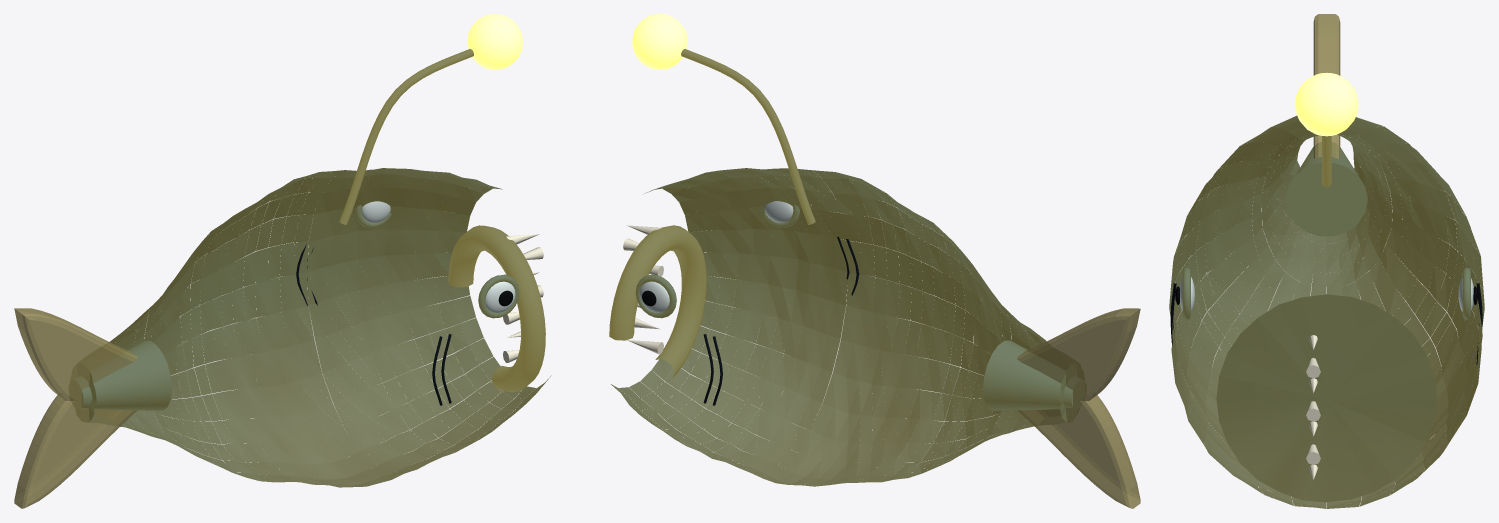
Rendered from star-mouth.glb.
3 views of the same model, side by side, from view 1: azimuth 30°, elevation 25°; view 2: azimuth 150°, elevation 25°; view 3: azimuth 270°, elevation 25° (orthographic). The views are drawn at different scales.
Visible parts, largest first — view 1: body, tail_fin, star_mouth, tail_peduncle, lure, lure_stem, eye_socket; view 2: body, tail_fin, star_mouth, tail_peduncle, lure, lure_stem, eye_socket; view 3: body, tail_peduncle, lure, tail_fin, eye_socket (×2), lure_stem.
Boxes of the visible parts, x1,y1,x2,y2 form: body: [76, 168, 551, 487]; tail_fin: [14, 308, 137, 508]; star_mouth: [448, 225, 545, 392]; tail_peduncle: [70, 340, 171, 410]; lure: [467, 14, 522, 69]; lure_stem: [339, 49, 473, 224]; eye_socket: [478, 275, 519, 318]; body: [611, 168, 1077, 486]; tail_fin: [1017, 308, 1140, 508]; star_mouth: [609, 225, 706, 378]; tail_peduncle: [983, 340, 1084, 410]; lure: [632, 14, 687, 69]; lure_stem: [681, 49, 815, 224]; eye_socket: [635, 275, 676, 318]; body: [1169, 115, 1484, 508]; tail_peduncle: [1285, 142, 1367, 236]; lure: [1295, 72, 1358, 136]; tail_fin: [1313, 14, 1340, 158]; eye_socket (×2): [1182, 267, 1470, 319]; lure_stem: [1322, 136, 1331, 187].
Bounding box in the file's own units: 2.55 × 2.01 × 1.19.
